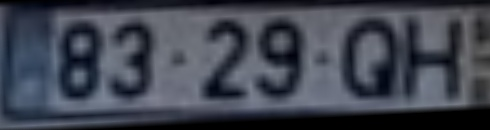2: (199, 16, 255, 105)
3: (106, 20, 160, 105)
8: (55, 19, 110, 106)
9: (254, 17, 309, 104)
H: (398, 16, 471, 106)
Q: (338, 15, 403, 103)
